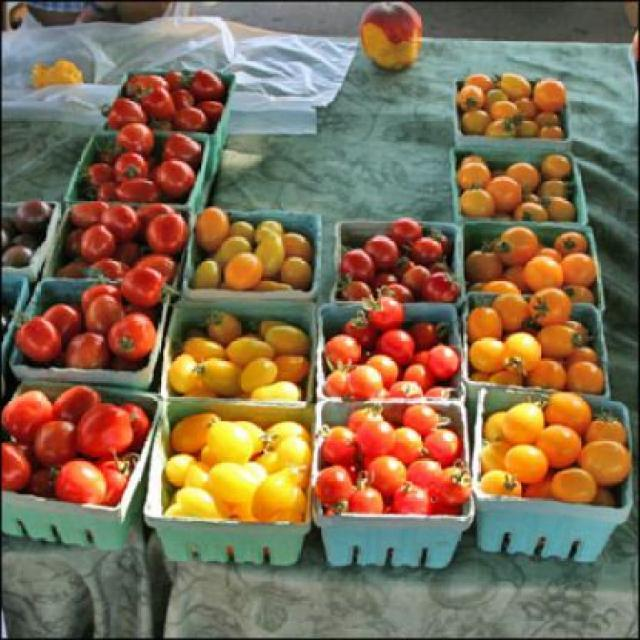Tomato: (0, 66, 229, 506), (460, 70, 628, 490), (165, 202, 308, 526), (330, 399, 458, 518), (322, 294, 448, 398), (340, 216, 462, 302)
